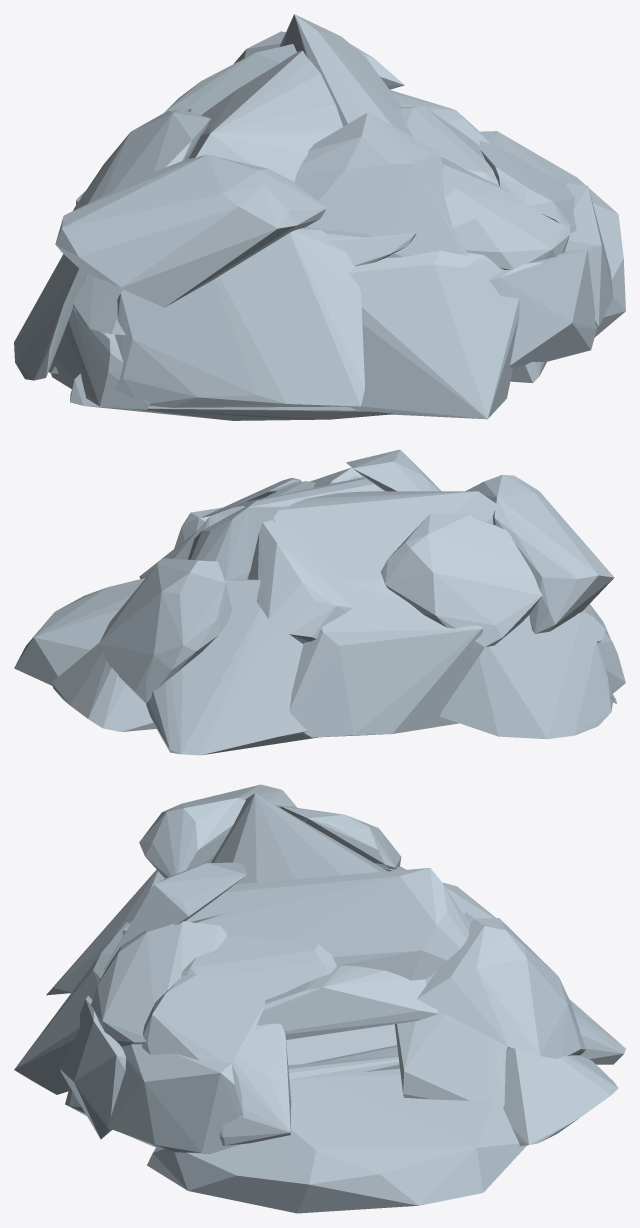
Rendered from Cave.fbx.
3 views of the same model, one above another, from view 1: azimuth 30°, elevation 25°; view 2: azimuth 150°, elevation 25°; view 3: azimuth 270°, elevation 25° (orthographic). The views are drawn at different scales.
Visible parts, largest first — view 1: Cave_Combined; view 2: Cave_Combined; view 3: Cave_Combined.
Boxes of the visible parts, bbox=[...] form: Cave_Combined: bbox=[14, 14, 625, 420]; Cave_Combined: bbox=[14, 449, 625, 755]; Cave_Combined: bbox=[14, 784, 625, 1213].
Size of the model in its own units: 3236 by 1316 by 3015.
